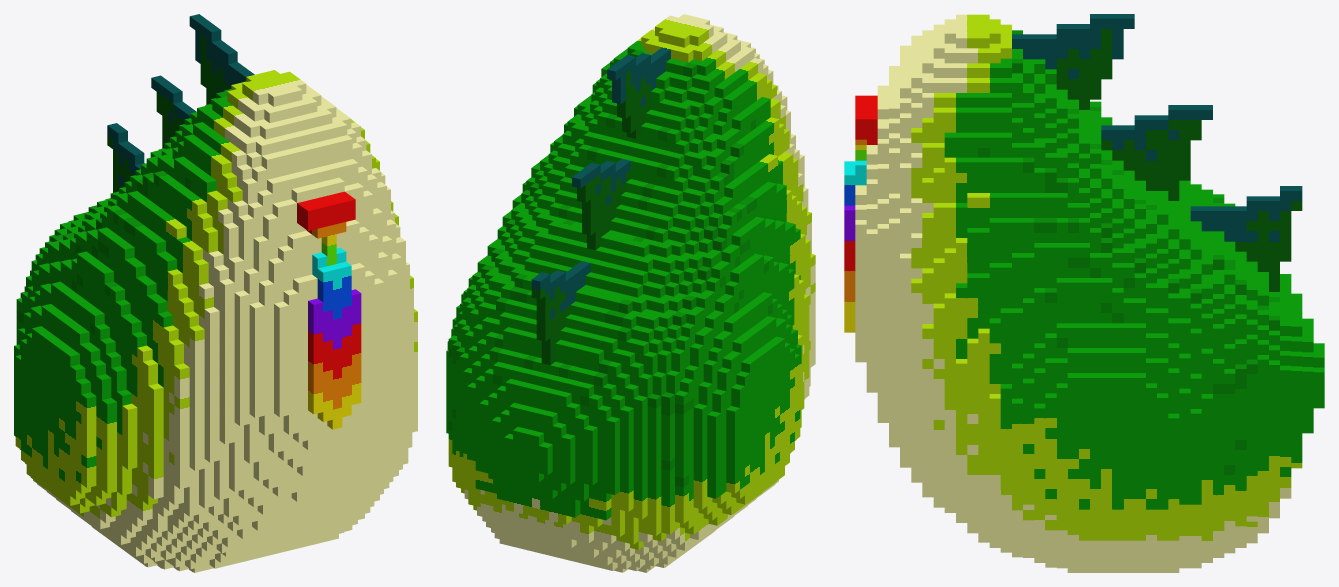
Rendered from rainbow tie.gltf.
3 views of the same model, side by side, from view 1: azimuth 30°, elevation 25°; view 2: azimuth 150°, elevation 25°; view 3: azimuth 270°, elevation 25° (orthographic). The views are drawn at different scales.
Parts seen in each view (by area): view 1: 04_Body_RainbowTie-Mesh; view 2: 04_Body_RainbowTie-Mesh; view 3: 04_Body_RainbowTie-Mesh.
Boxes of the visible parts, x1=… form: 04_Body_RainbowTie-Mesh: x1=14, y1=14, x2=417, y2=572; 04_Body_RainbowTie-Mesh: x1=446, y1=14, x2=815, y2=572; 04_Body_RainbowTie-Mesh: x1=844, y1=14, x2=1324, y2=572.
Size of the model in its own units: 33 by 51 by 43.
Materials: 1 (1 with a texture image).
